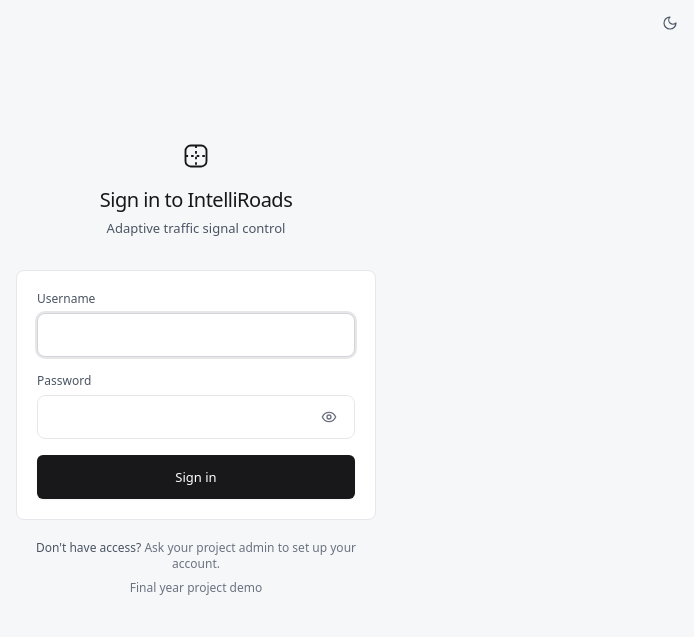
Scenario: LoginPage component › shows error message when submitted with missing username or password
Note: Enter username only
Type "admin" into the field labelled "Username" at (196, 335), box [37,313,355,357]
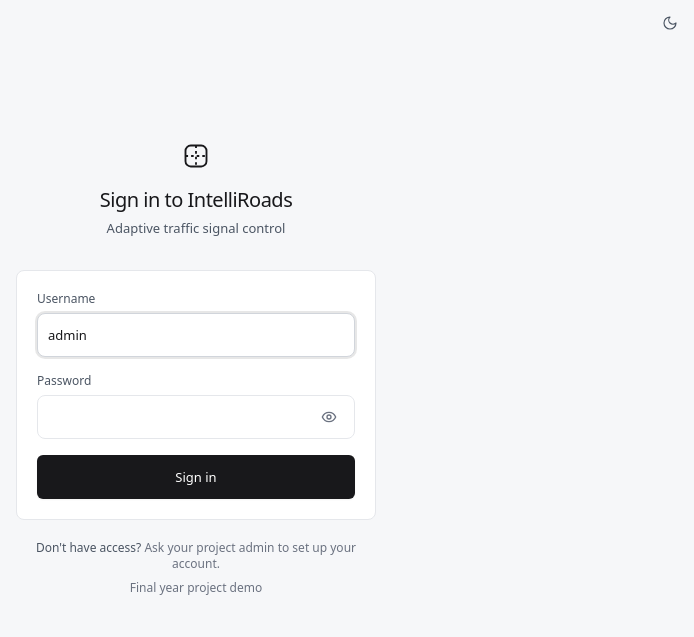
Submit the form, box [16,270,376,520]
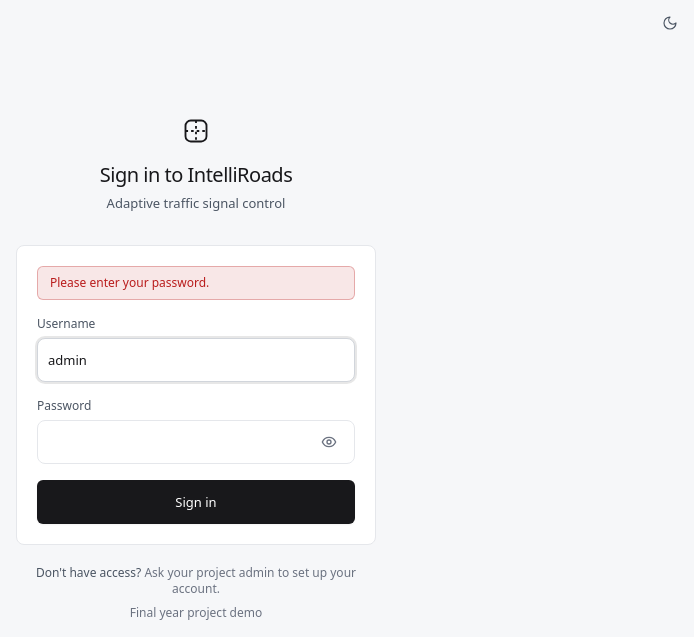
Expected: the message shows "Please enter your password", [50,274,209,291]
Note: Clear username, enter password only
Clear the field labelled "Username" at (196, 360), box [37,338,355,382]
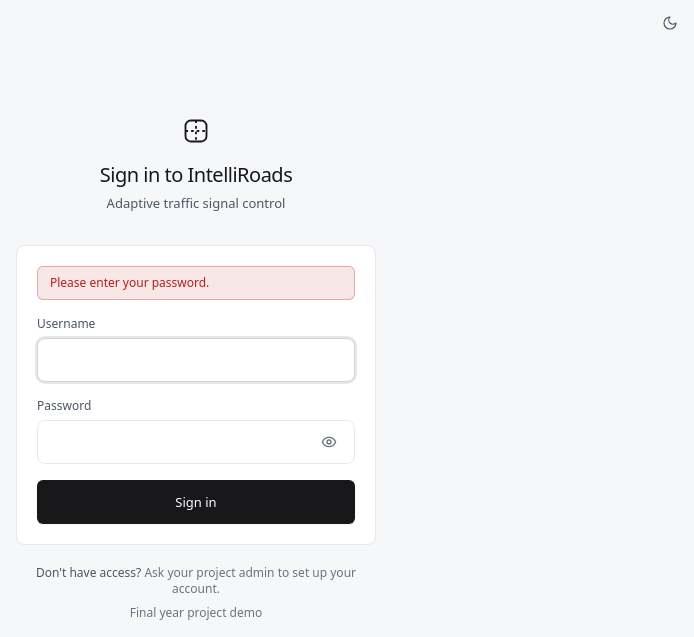
Type "secret" into the password field labelled "Password" at (196, 442), box [37,420,355,464]
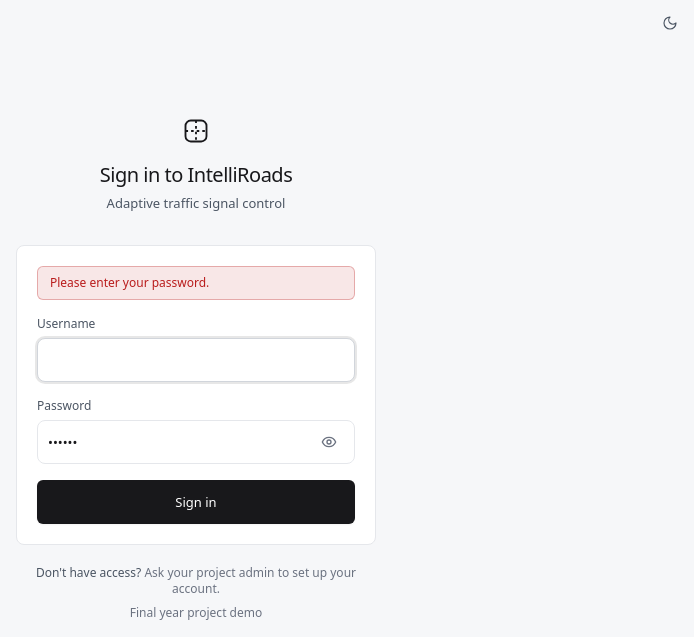
Submit the form, box [16,245,376,545]
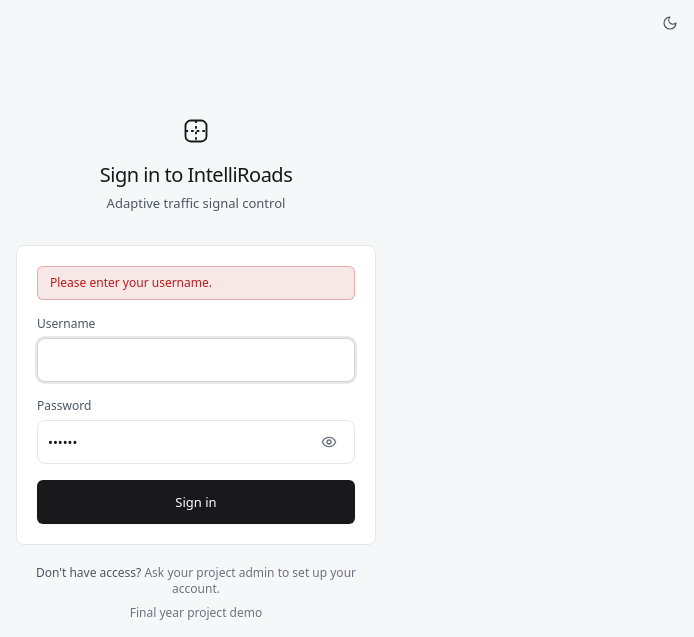
Expected: the message shows "Please enter your username", [50,274,212,291]
